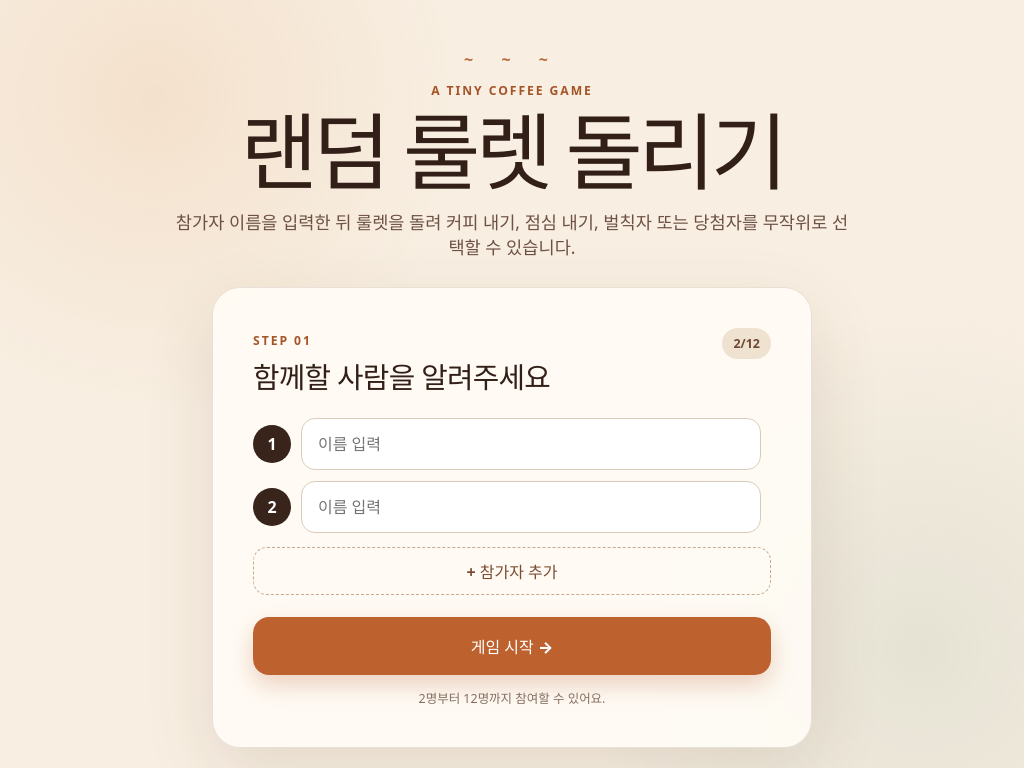
App › opens the routed game after participant setup at /roulette
Type "Mina" into the 1st field with placeholder "이름 입력". click: x=531, y=444
box: [301,418,761,470]
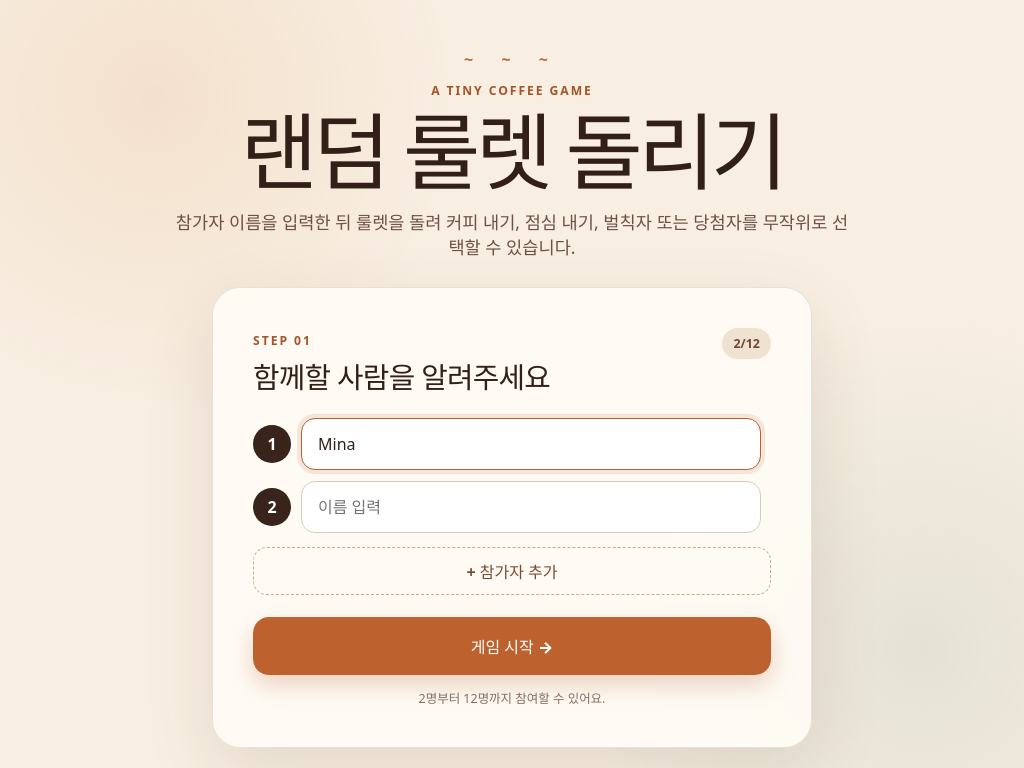
Type "Joon" into the field with placeholder "이름 입력". click: x=531, y=507
box: [301,481,761,533]
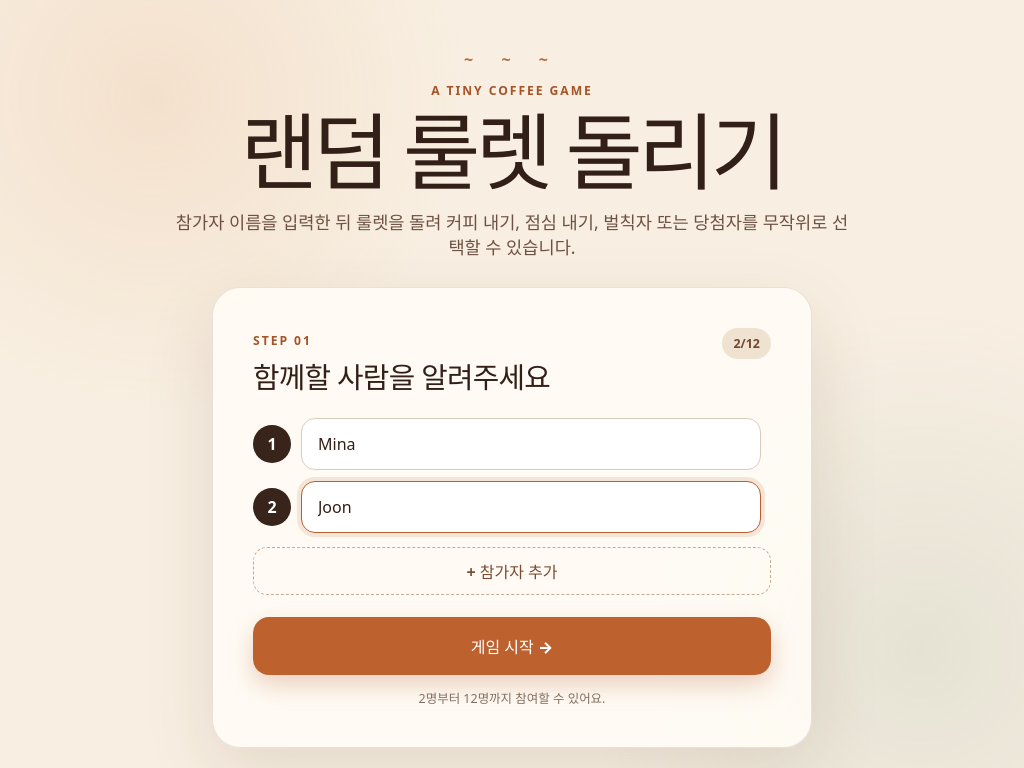
Click the button "게임 시작 →". click: x=512, y=646
box: [253,617,771,675]
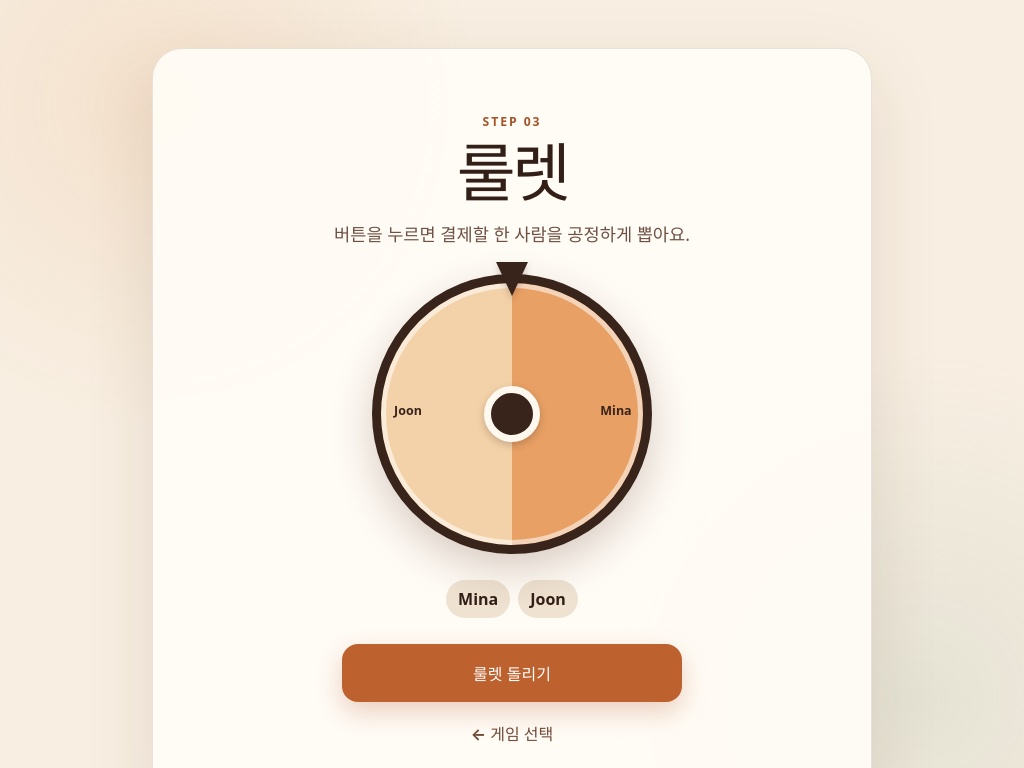
expect the heading "룰렛" is shown: met, box [457,128,567,215]
expect the button "룰렛 돌리기" is shown: met, box [342,644,682,702]
